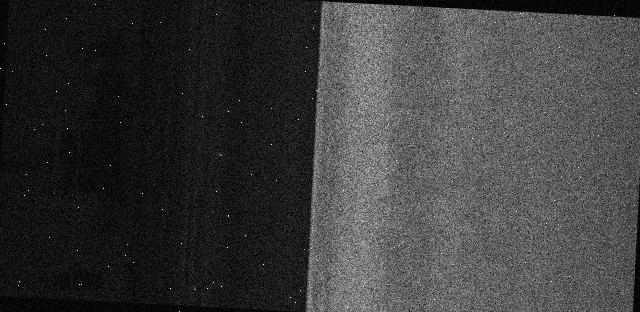silk_spot: (354, 75, 448, 312)
